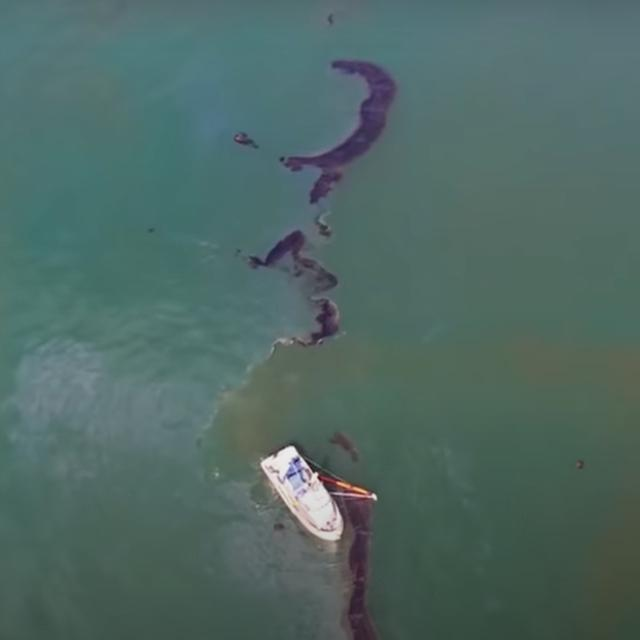truecolor: (280, 59, 397, 204), (304, 456, 380, 640), (247, 230, 340, 350), (330, 434, 360, 462), (233, 132, 259, 148)
